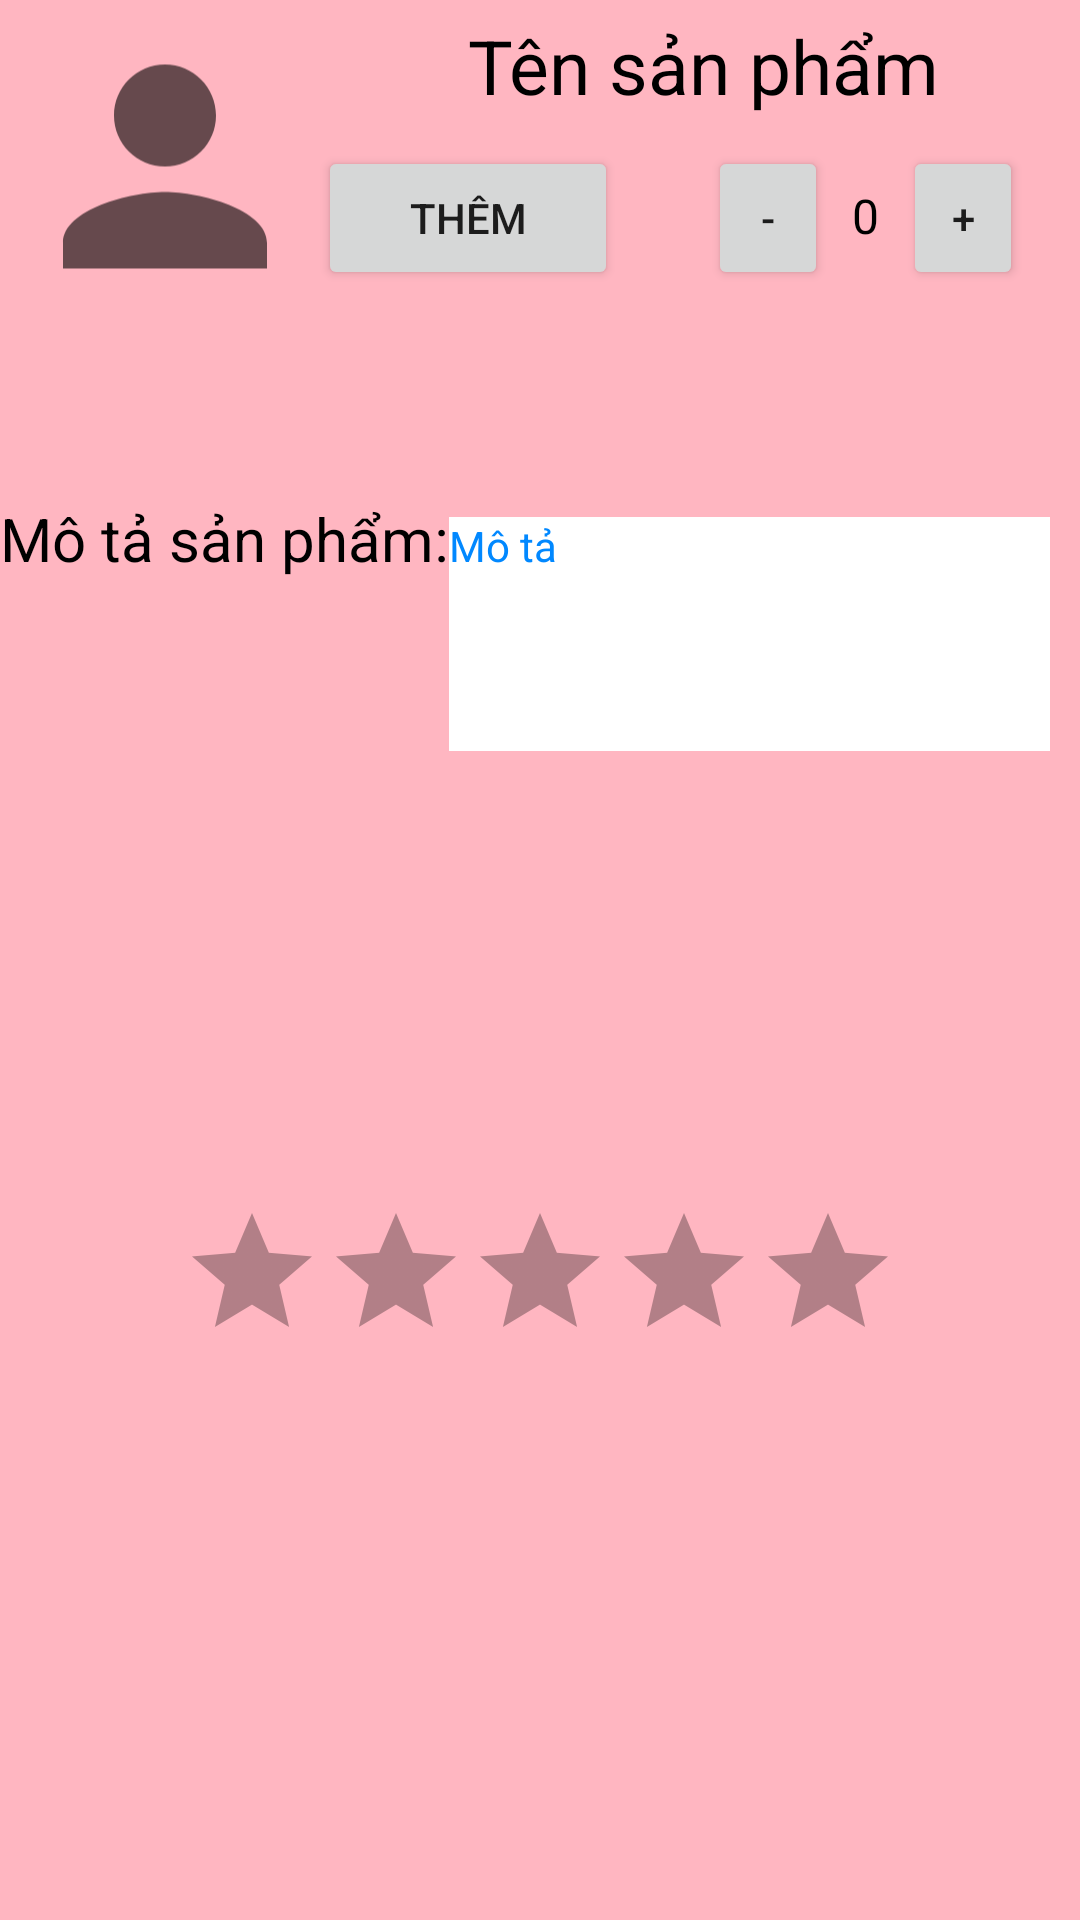

Locate icon controls on the screen. Image size 1080x1920, boxes as [x1, y1, x2, y2].
person: [63, 64, 267, 269]
